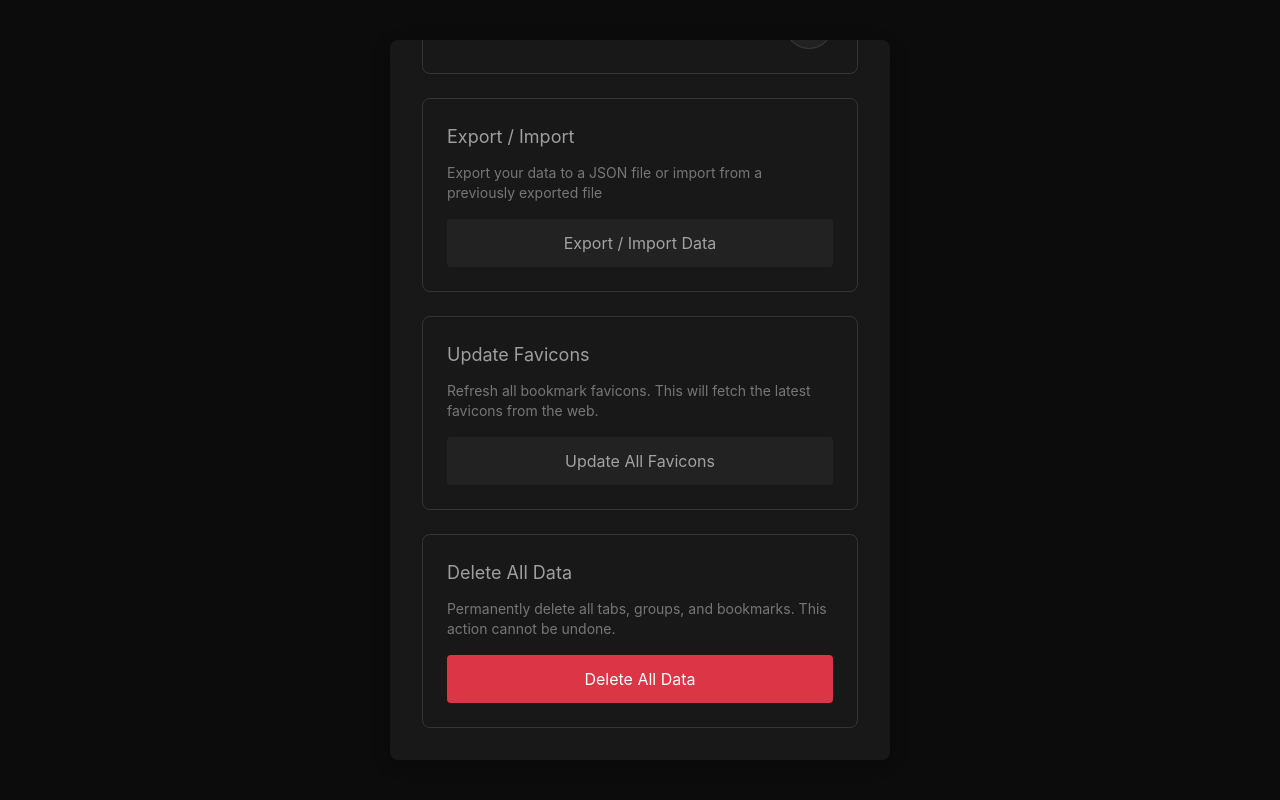
Test: SettingsModal › handles Escape key to close delete confirmation
(page scrolled)
Click the button "Delete All Data" at coordinates (640, 679), box [447,655,833,703]
(page scrolled)
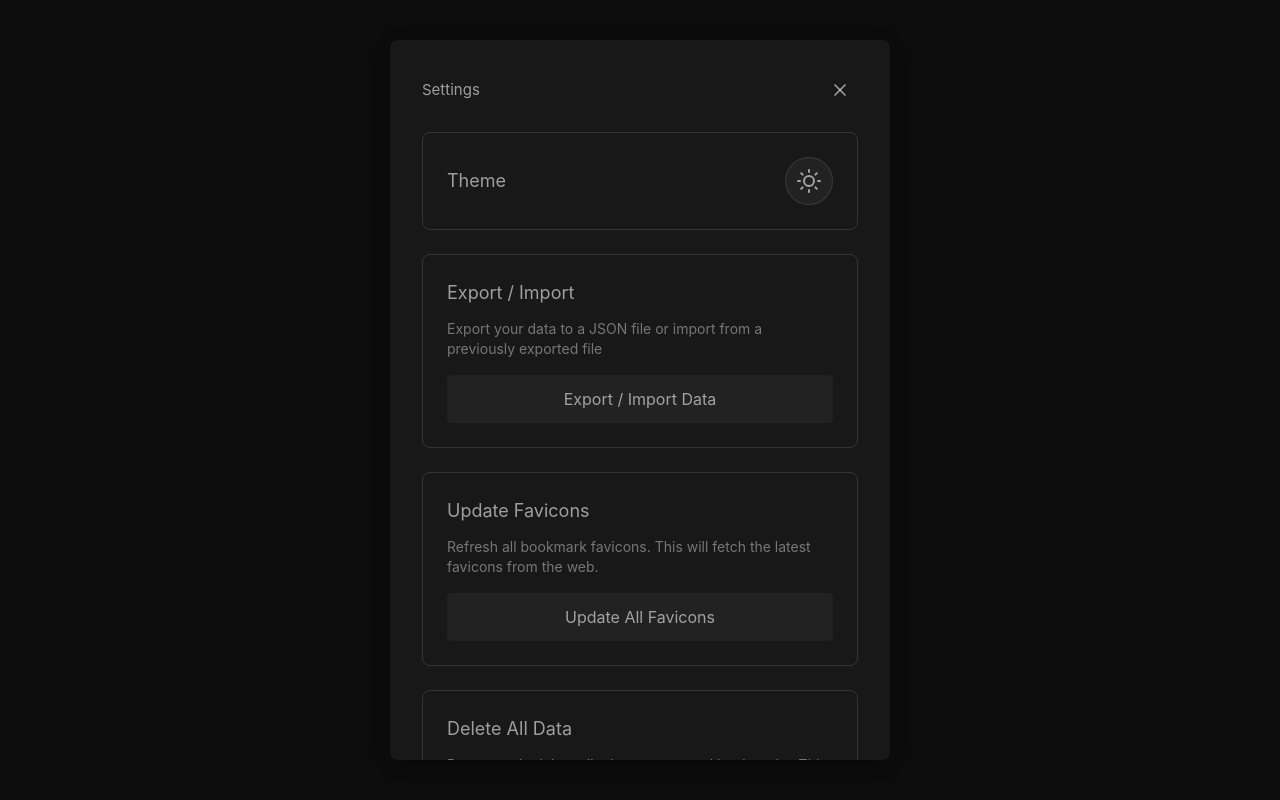
Expected: the heading "Settings" is shown, [422,78,480,102]
